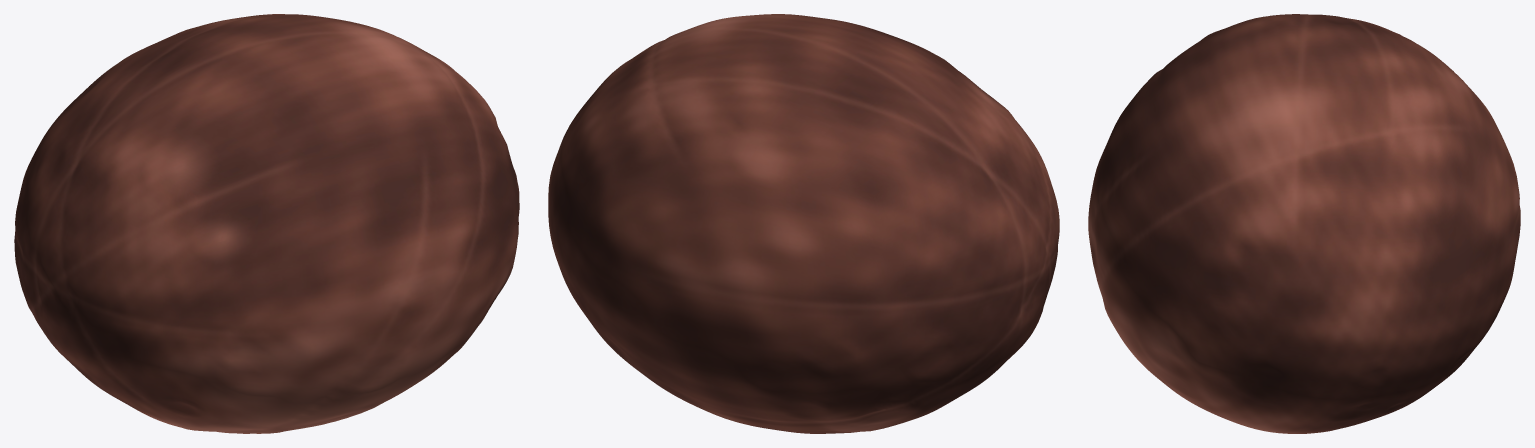
The model's file is weywot.glb.
3 views of the same model, side by side, from view 1: azimuth 30°, elevation 25°; view 2: azimuth 150°, elevation 25°; view 3: azimuth 270°, elevation 25° (orthographic). The views are drawn at different scales.
Visible parts, largest first — view 1: weywot_body; view 2: weywot_body; view 3: weywot_body.
Part boxes in pixels (x1,y1,x2,y2): weywot_body: (14, 14, 519, 433); weywot_body: (548, 14, 1059, 433); weywot_body: (1088, 14, 1520, 433).
Bounding box in the file's own units: 2.29 × 1.76 × 1.92.
1 material, 1 textured.
